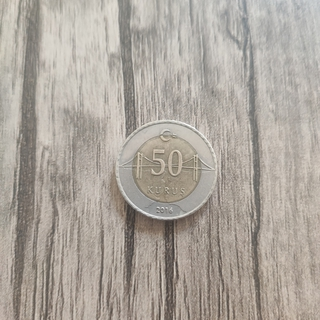50KURUS: (111, 117, 219, 222)
